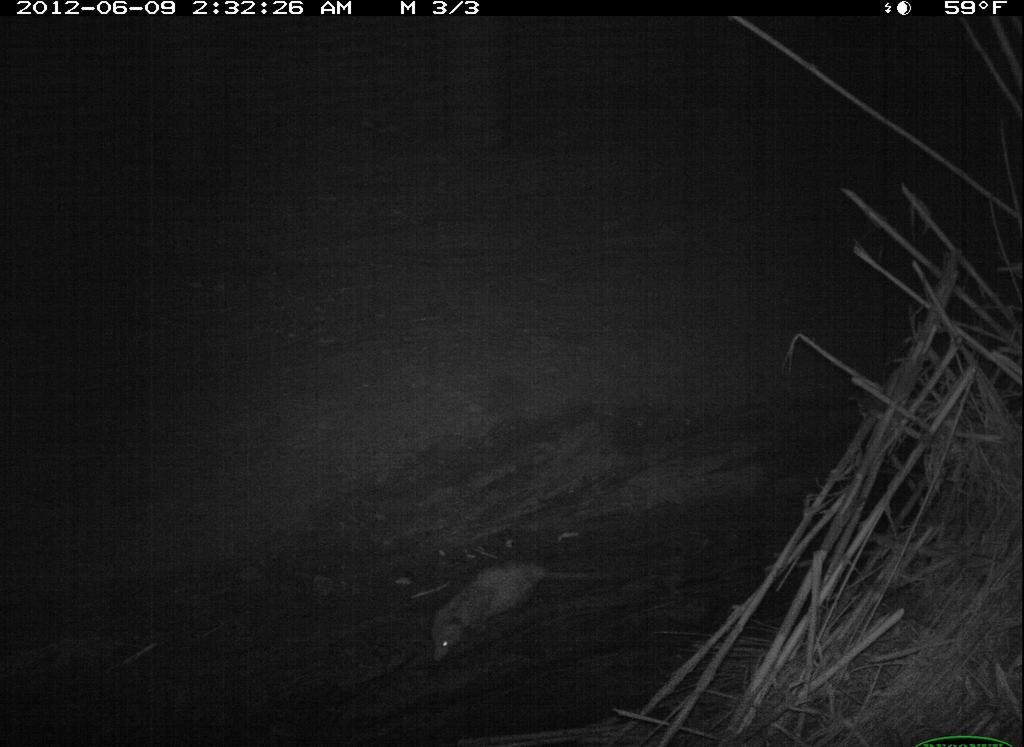opossum: (418, 542, 628, 692)
